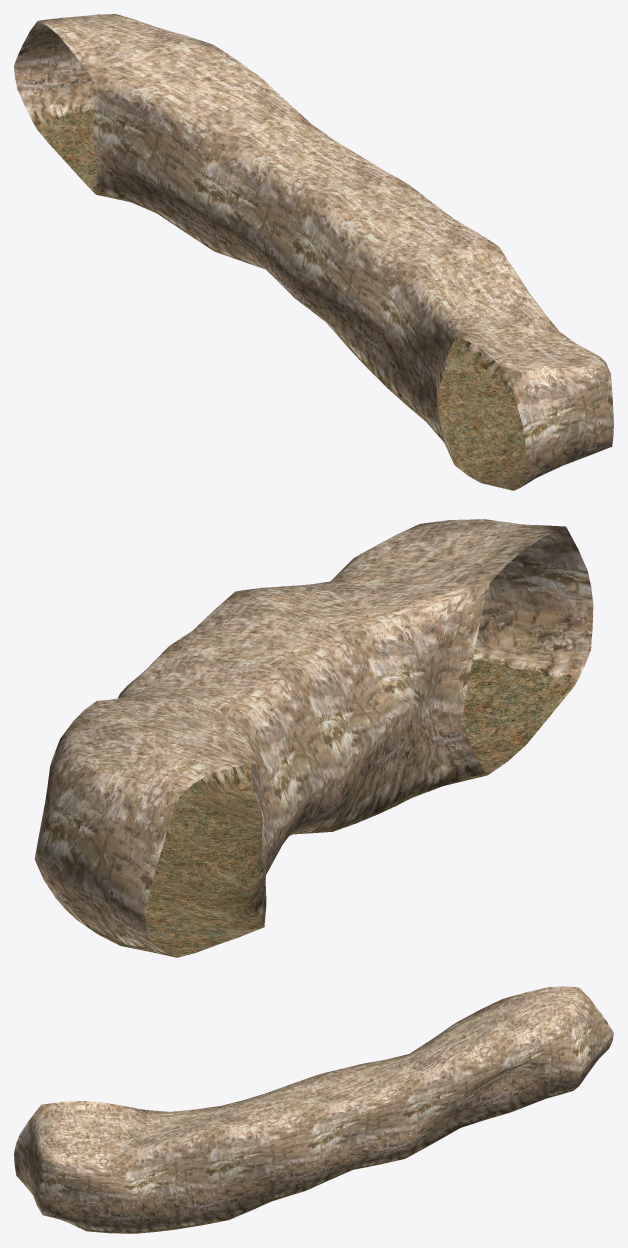
Rendered from thm_all_cave_s02_mirror_r6_mesh_r6.fbx.
The picture shows the model from 3 angles, top to bottom: view 1: azimuth 30°, elevation 25°; view 2: azimuth 150°, elevation 25°; view 3: azimuth 270°, elevation 25°; orthographic projection. The views are drawn at different scales.
Visible parts, largest first — view 1: mesh_node; view 2: mesh_node; view 3: mesh_node.
Boxes of the visible parts, x1,y1,x2,y2 form: mesh_node: [14, 14, 613, 490]; mesh_node: [34, 519, 593, 957]; mesh_node: [14, 986, 613, 1233].
Bounding box in the file's own units: 21.61 × 21.57 × 65.39.
